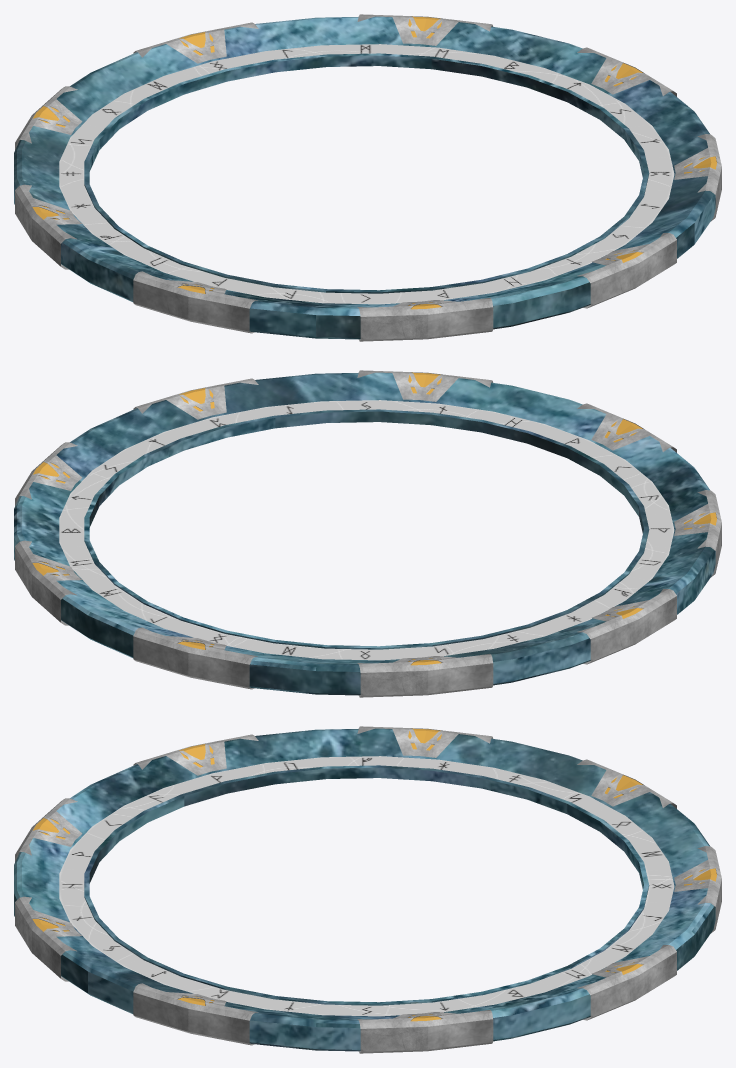
The model's file is stargate10.dae.
The picture shows the model from 3 angles, top to bottom: view 1: azimuth 30°, elevation 25°; view 2: azimuth 150°, elevation 25°; view 3: azimuth 270°, elevation 25°; orthographic projection.
Parts seen in each view (by area): view 1: Cylinder, Chevron.004, Chevron.003, Chevron.005, Chevron.002, Chevron.008, Chevron, Chevron.006, Chevron.007, Chevron.001; view 2: Cylinder, Chevron.001, Chevron, Chevron.002, Chevron.008, Chevron.005, Chevron.006, Chevron.003, Chevron.004, Chevron.007; view 3: Cylinder, Chevron.007, Chevron.006, Chevron.008, Chevron.005, Chevron.002, Chevron.003, Chevron, Chevron.001, Chevron.004.
Boxes of the visible parts, bbox=[...] form: Cylinder: bbox=[14, 16, 715, 339]; Chevron.004: bbox=[357, 298, 493, 341]; Chevron.003: bbox=[133, 271, 257, 333]; Chevron.005: bbox=[577, 233, 676, 308]; Chevron.002: bbox=[15, 184, 81, 269]; Chevron.008: bbox=[357, 14, 492, 45]; Chevron: bbox=[133, 22, 258, 63]; Chevron.006: bbox=[674, 134, 721, 221]; Chevron.007: bbox=[577, 47, 676, 96]; Chevron.001: bbox=[15, 86, 82, 149]; Cylinder: bbox=[14, 372, 715, 695]; Chevron.001: bbox=[357, 654, 493, 697]; Chevron: bbox=[133, 627, 257, 689]; Chevron.002: bbox=[577, 589, 676, 664]; Chevron.008: bbox=[15, 540, 81, 625]; Chevron.005: bbox=[357, 370, 492, 401]; Chevron.006: bbox=[133, 378, 258, 419]; Chevron.003: bbox=[674, 490, 721, 577]; Chevron.004: bbox=[577, 403, 676, 452]; Chevron.007: bbox=[15, 442, 82, 505]; Cylinder: bbox=[14, 728, 715, 1051]; Chevron.007: bbox=[357, 1010, 493, 1053]; Chevron.006: bbox=[133, 983, 257, 1045]; Chevron.008: bbox=[577, 945, 676, 1020]; Chevron.005: bbox=[15, 896, 81, 981]; Chevron.002: bbox=[357, 726, 492, 757]; Chevron.003: bbox=[133, 734, 258, 775]; Chevron: bbox=[674, 846, 721, 933]; Chevron.001: bbox=[577, 759, 676, 808]; Chevron.004: bbox=[15, 798, 82, 861].
Bounding box in the file's own units: 7.04 × 7 × 0.3528.
Materials: 20 (11 with a texture image).
